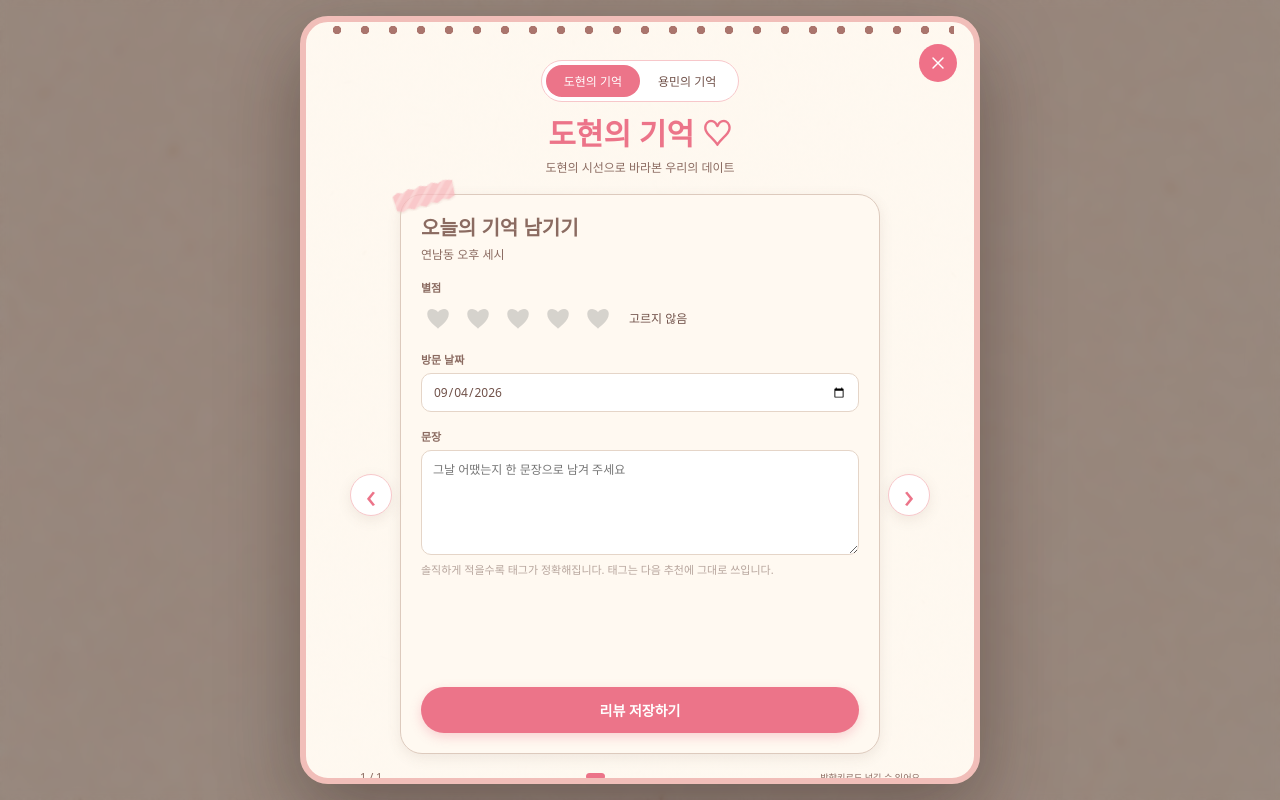
Test: 리뷰 작성 화면 › 태그 추출에 실패해도 리뷰는 저장되었다고 알린다
Click the radio button with test id "review-rating-4" at (558, 318), box top-left (541, 301), bottom-right (575, 335)
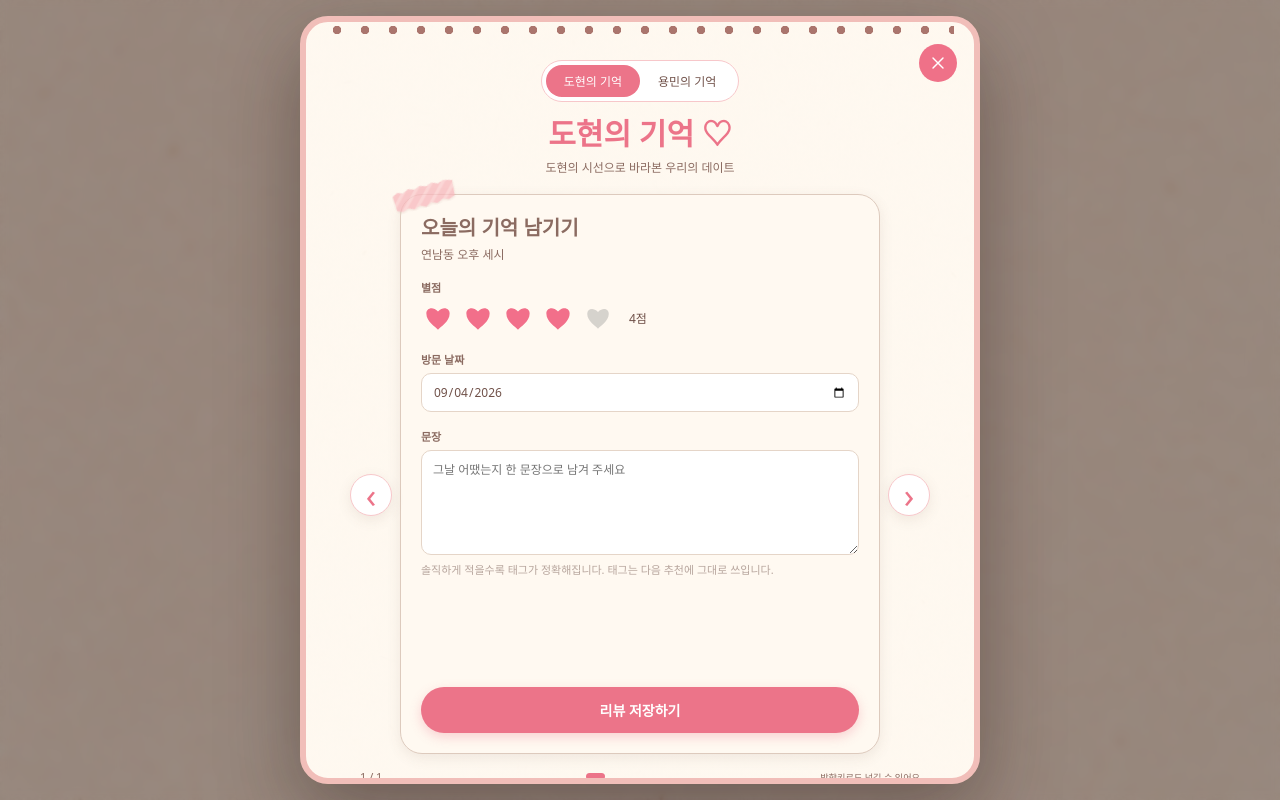
Type "조용해서 얘기하기 좋았어요" into the text box with test id "review-content" at (640, 502), box top-left (421, 450), bottom-right (859, 555)
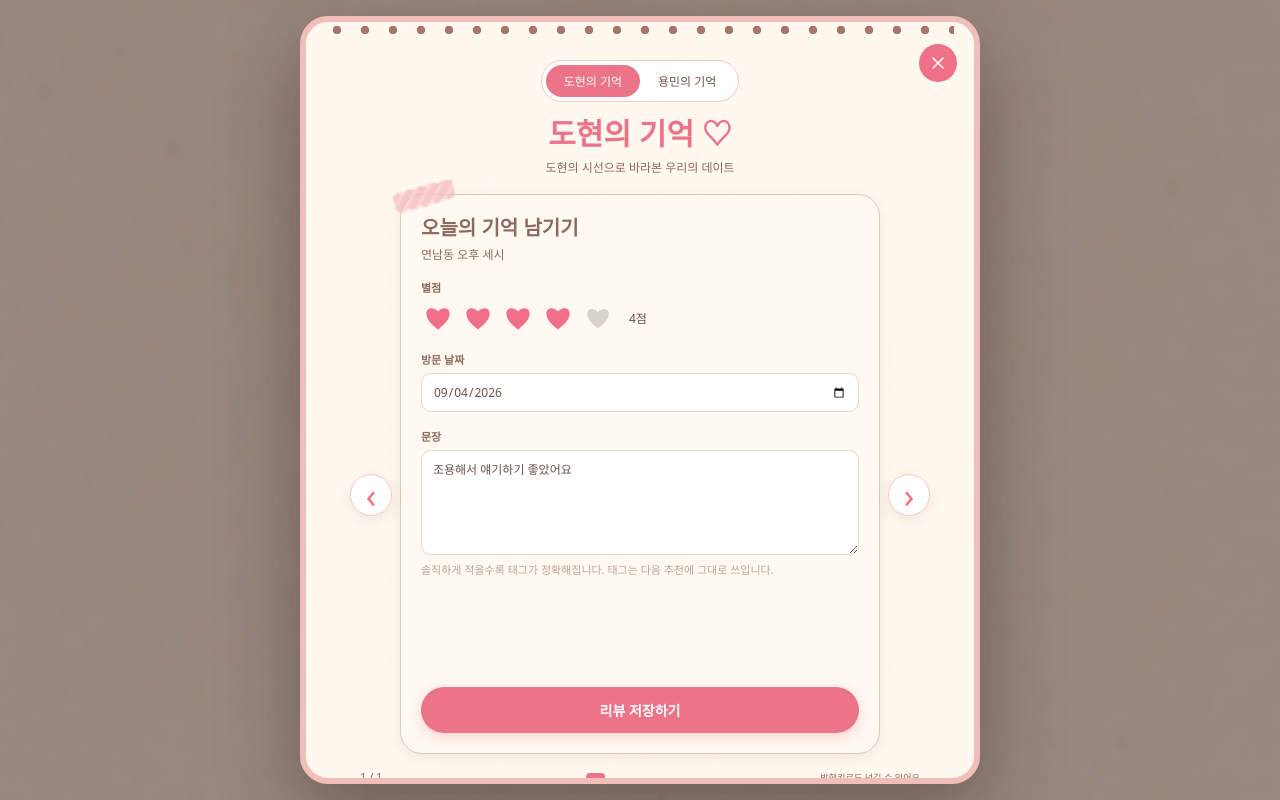
Submit the form with test id "review-write-form", box top-left (400, 194), bottom-right (880, 754)
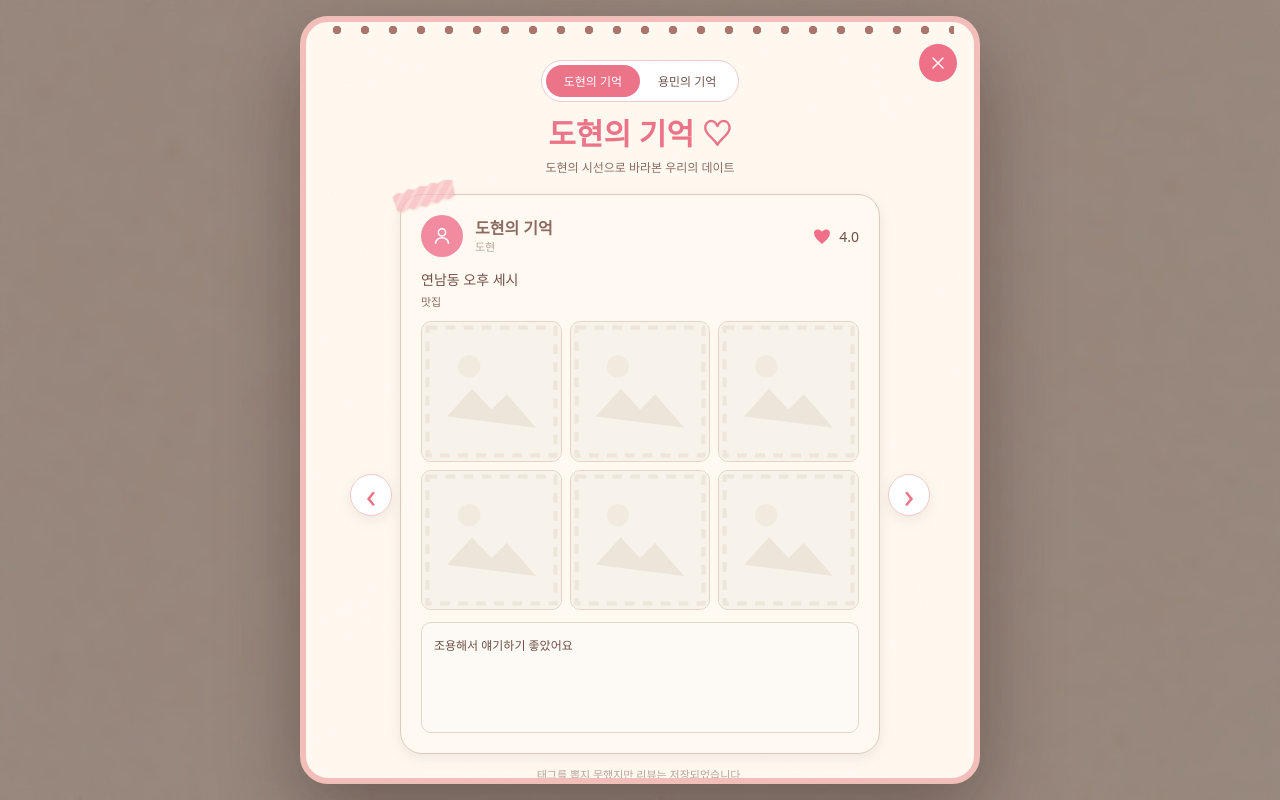
Expected: the message with test id "review-tag-failed" reads "태그를 뽑지 못했지만 리뷰는 저장되었습니다.", top-left (537, 767), bottom-right (743, 782)
